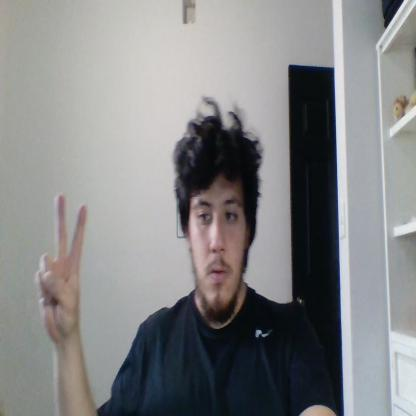V: (35, 195, 86, 339)
